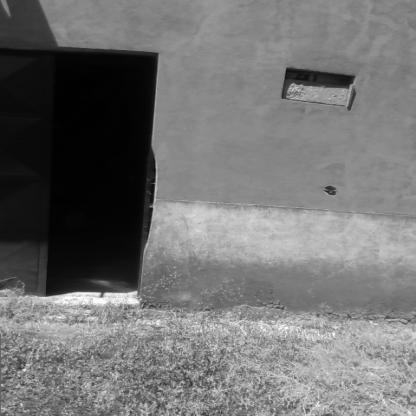open: (2, 36, 174, 314)
